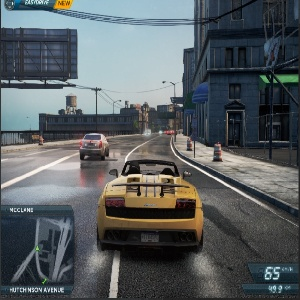building: (184, 12, 300, 143), (40, 97, 147, 137)
electrical pole: (88, 84, 112, 131)
lamp post: (163, 78, 186, 143)
vehicle: (78, 131, 114, 163), (157, 128, 165, 135), (144, 130, 150, 137)
